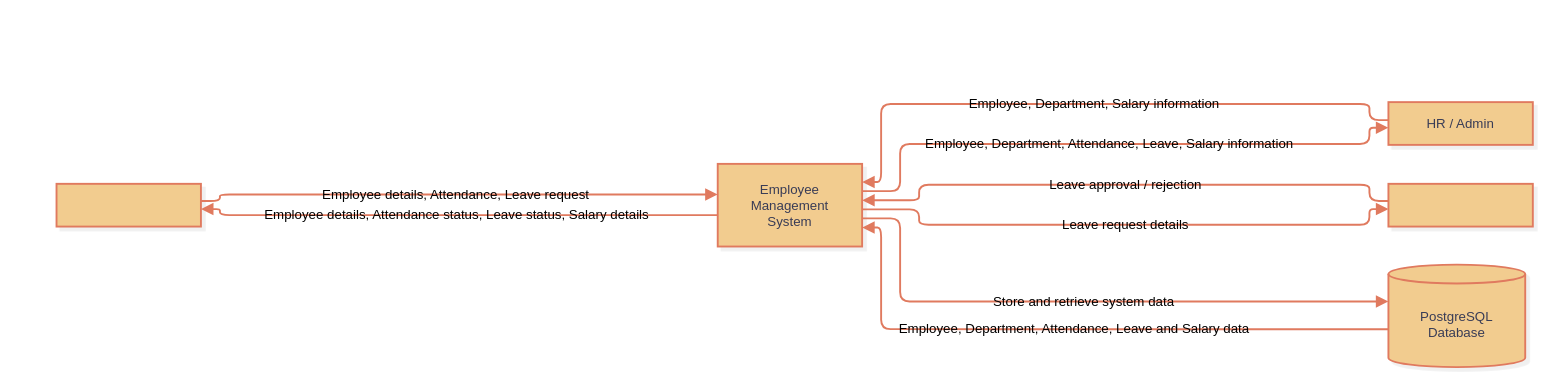
This 1553x388 diagram has some shape labels left out. Each missing label, with the centre of its shape:
Employee: point 130,206
Manager: point 1462,206
